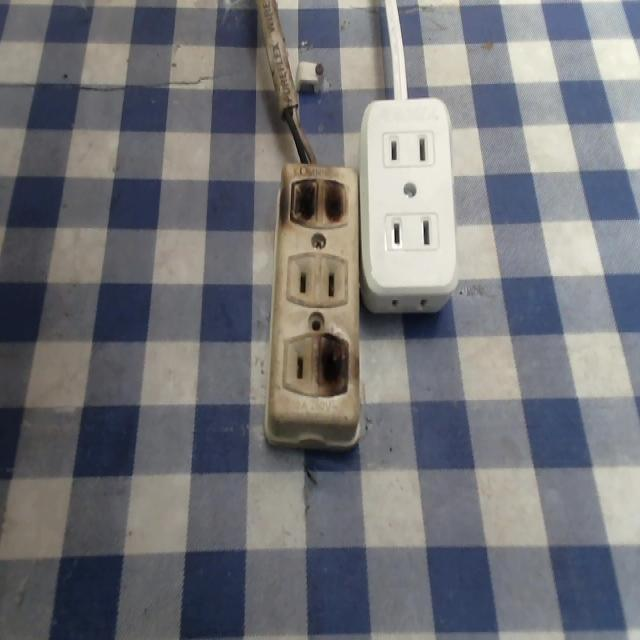-: (283, 173, 350, 232), (314, 330, 347, 394)
